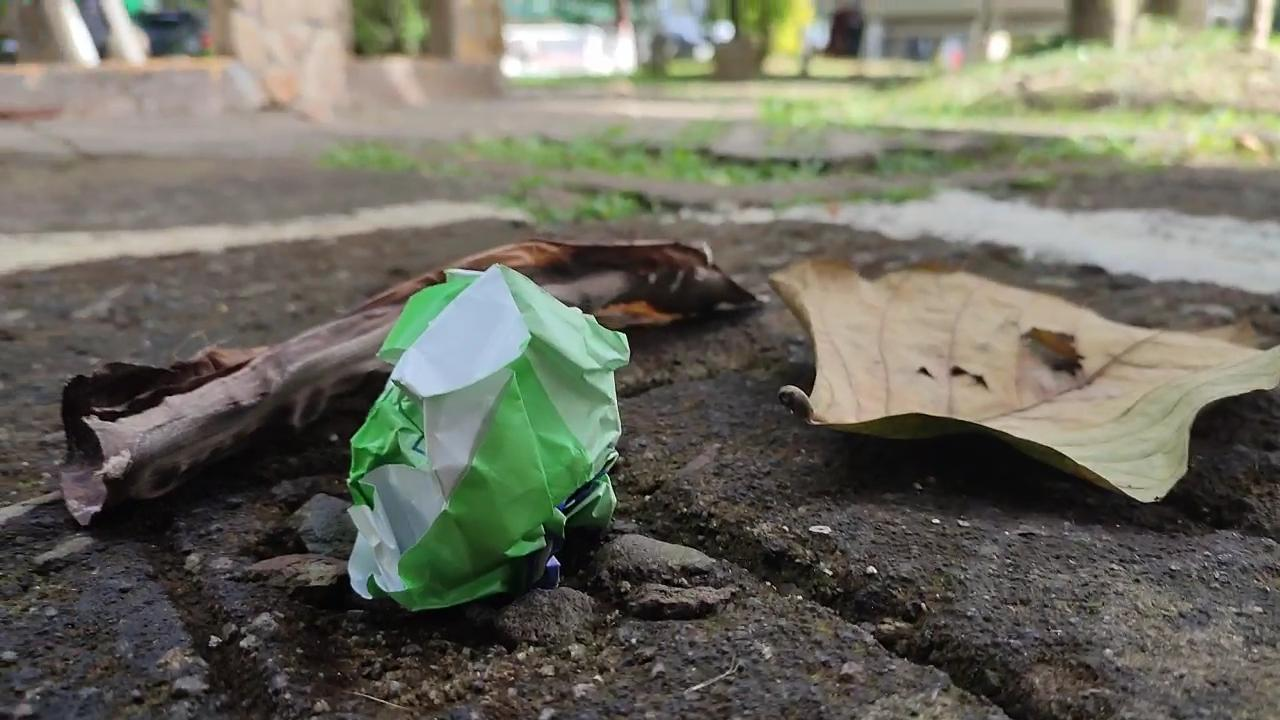Paper: (321, 251, 643, 633)
